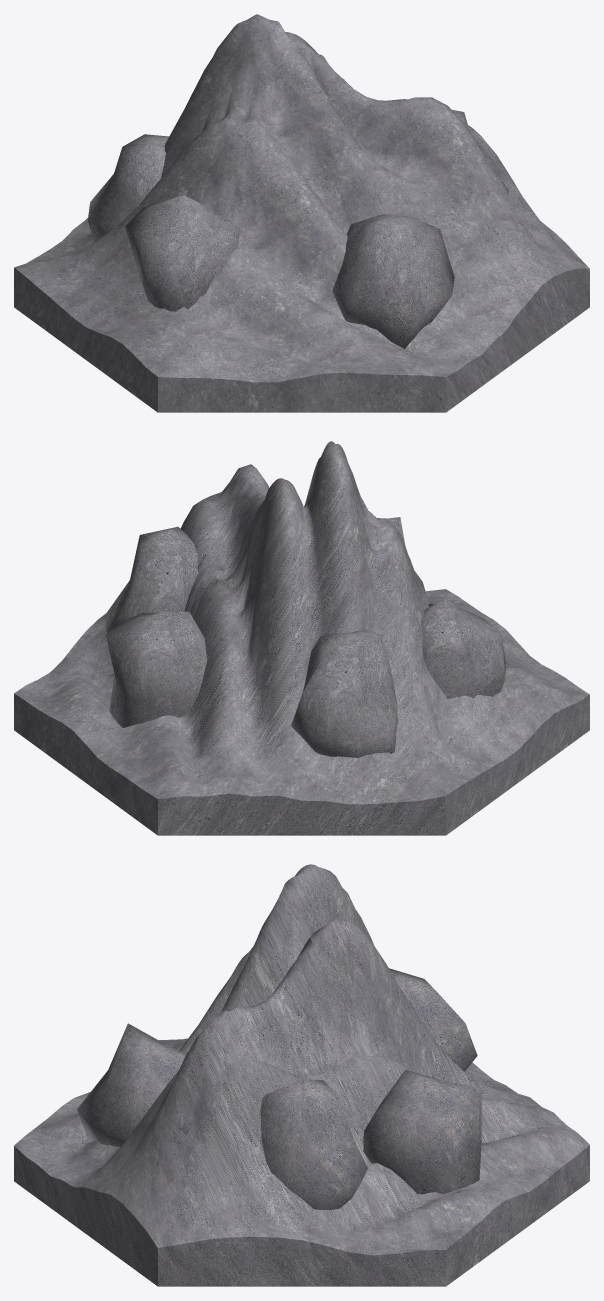
File: env-terrain-mountain.glb
3 views of the same model, one above another, from view 1: azimuth 30°, elevation 25°; view 2: azimuth 150°, elevation 25°; view 3: azimuth 270°, elevation 25° (orthographic).
Parts seen in each view (by area): view 1: terrain mountain · authored textured miniature; view 2: terrain mountain · authored textured miniature; view 3: terrain mountain · authored textured miniature.
Part boxes in pixels (bbox=[...]): terrain mountain · authored textured miniature: bbox=[14, 14, 589, 412]; terrain mountain · authored textured miniature: bbox=[14, 441, 589, 835]; terrain mountain · authored textured miniature: bbox=[14, 864, 589, 1286].
Size of the model in its own units: 1.63 by 1.12 by 1.88.
1 material, 1 textured.
